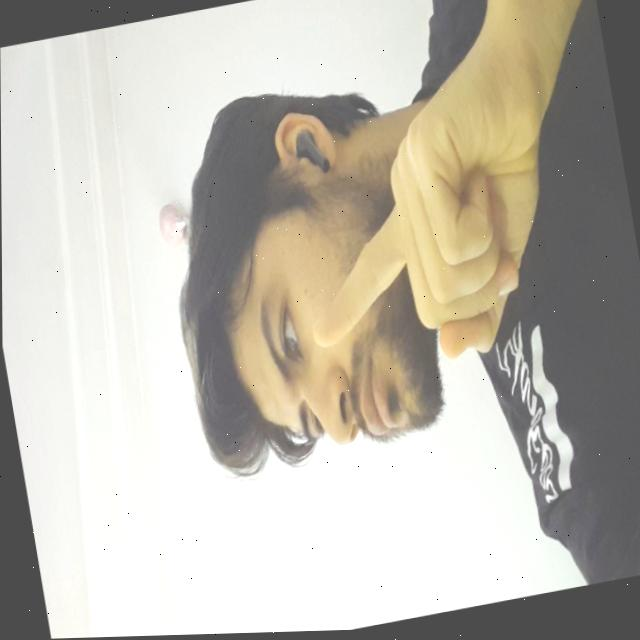Head: (142, 57, 463, 496)
One: (272, 20, 600, 392)
